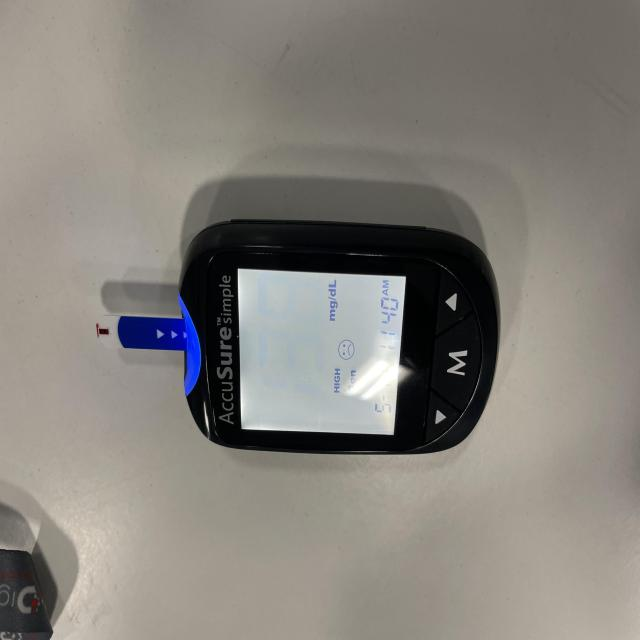gluco: (170, 145, 507, 457)
